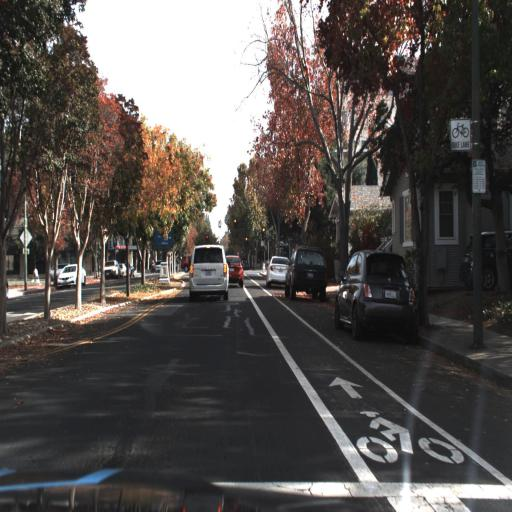car: (330, 246, 429, 350), (279, 241, 331, 305), (187, 241, 233, 305), (54, 257, 90, 294), (262, 248, 290, 292), (223, 250, 245, 294), (99, 257, 118, 287)
trafficLight-Red: (261, 225, 266, 241), (232, 217, 237, 231), (244, 234, 249, 248)
trafficLight-RedLeft: (204, 232, 209, 250)
